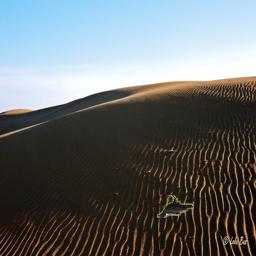Crow: (157, 195, 194, 218)
